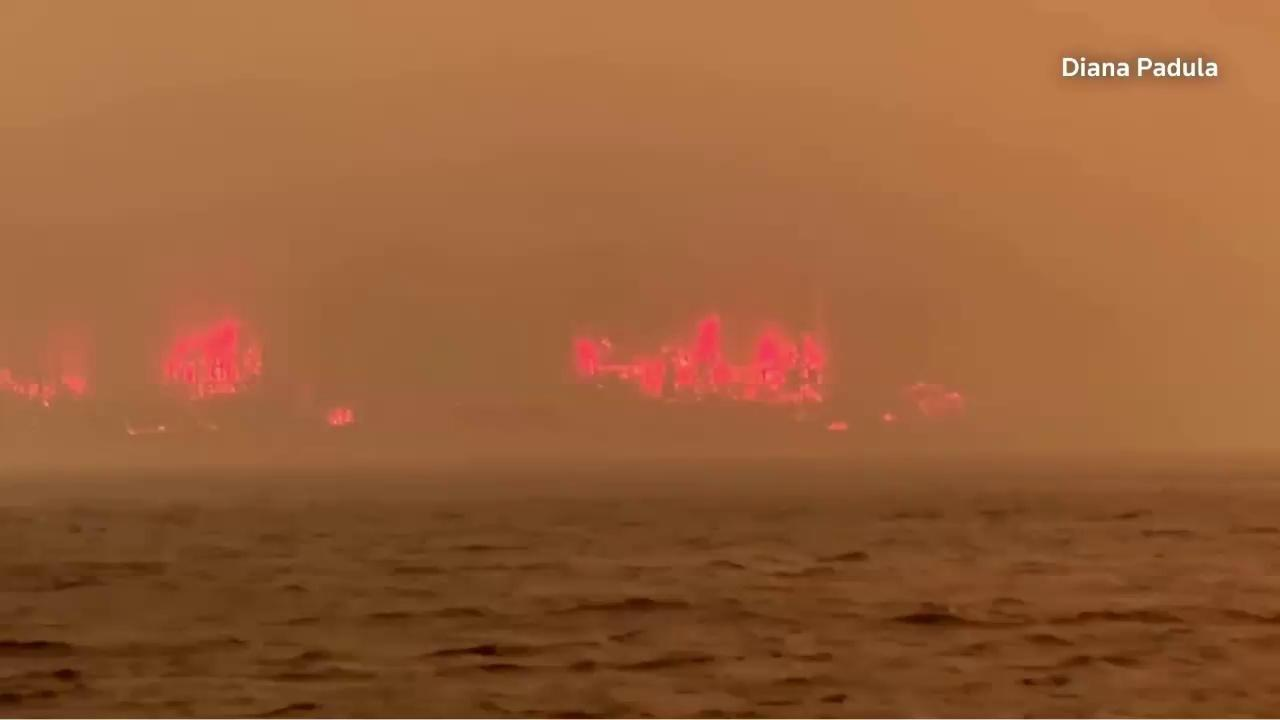fire: (574, 310, 827, 405), (159, 316, 264, 400), (0, 366, 91, 408), (904, 379, 964, 417), (325, 405, 356, 427), (825, 418, 848, 431), (883, 412, 898, 423)
smoke: (0, 0, 1280, 474)
